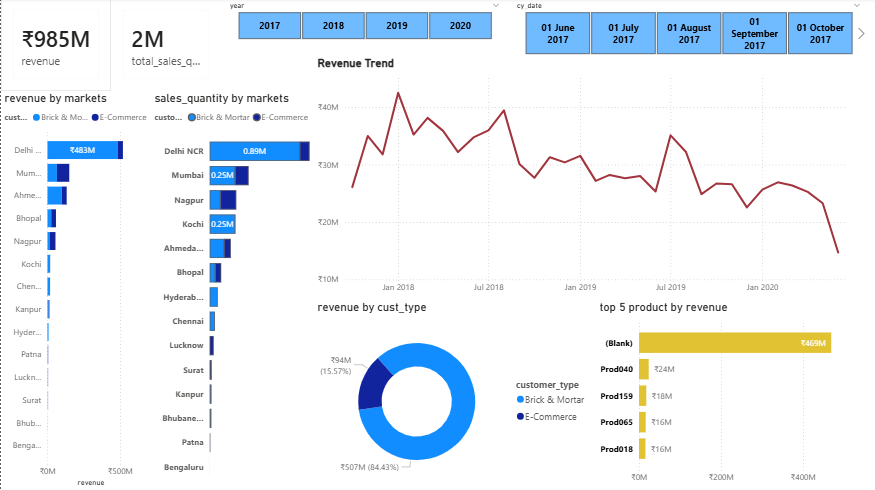

The page's visual inventory and layout, read from the dashboard file:
{"tool":"powerbi","page":{"name":"Dashbord_chart","canvas":[1280,720],"ordinal":2},"visuals":[{"type":"cardVisual","fields":{"Data":["sales customers.revenue"]},"box":[0,0,161.3,136.1],"z":0},{"type":"cardVisual","fields":{"Data":["sales customers.total_sales_quantity"]},"box":[161.3,0,161.3,136.1],"z":1000},{"type":"barChart","title":"revenue by markets","fields":{"Y":["sales customers.revenue"],"Category":["sales markets.markets_name"],"Series":["sales customers.customer_type"]},"box":[0,136.1,219.5,583.9],"z":2000},{"type":"barChart","title":"sales_quantity by markets","fields":{"Y":["sales customers.total_sales_quantity"],"Category":["sales markets.markets_name"],"Series":["sales customers.customer_type"]},"box":[219.5,136.1,238.5,583.9],"z":3000},{"type":"donutChart","title":"revenue by cust_type","fields":{"Category":["sales customers.customer_type"],"Y":["sales customers.revenue"]},"box":[458,442,409.8,278],"z":4000},{"type":"barChart","title":"top 5 product by revenue","fields":{"Category":["sales products.product_code"],"Y":["sales customers.revenue"]},"box":[870.7,442,409.8,278],"z":5000},{"type":"slicer","fields":{"Values":["sales date.year"]},"box":[322,0,420,67.3],"z":6000},{"type":"slicer","fields":{"Values":["sales date.cy_date"]},"box":[742,0,528.3,84.9],"z":7000},{"type":"lineChart","title":"Revenue Trend","fields":{"Y":["sales customers.revenue"],"Category":["sales date.cy_date.Variation.Date Hierarchy.Year","sales date.cy_date.Variation.Date Hierarchy.Quarter","sales date.cy_date.Variation.Date Hierarchy.Month","sales date.cy_date.Variation.Date Hierarchy.Day"]},"box":[458,84.9,796.1,357.1],"z":8000}]}

Visuals, with their boxes in screenshot pixels (x1, y1, x2, y2), scaled from the page's 1280x720 canvas onto the 875x490 screenshot:
cardVisual - sales customers.revenue: {"left": 0, "top": 0, "right": 110, "bottom": 93}
cardVisual - sales customers.total_sales_quantity: {"left": 110, "top": 0, "right": 221, "bottom": 93}
"revenue by markets" barChart: {"left": 0, "top": 93, "right": 150, "bottom": 489}
"sales_quantity by markets" barChart: {"left": 150, "top": 93, "right": 313, "bottom": 489}
"revenue by cust_type" donutChart: {"left": 313, "top": 301, "right": 593, "bottom": 489}
"top 5 product by revenue" barChart: {"left": 595, "top": 301, "right": 874, "bottom": 489}
slicer - sales date.year: {"left": 220, "top": 0, "right": 507, "bottom": 46}
slicer - sales date.cy_date: {"left": 507, "top": 0, "right": 868, "bottom": 58}
"Revenue Trend" lineChart: {"left": 313, "top": 58, "right": 857, "bottom": 301}
